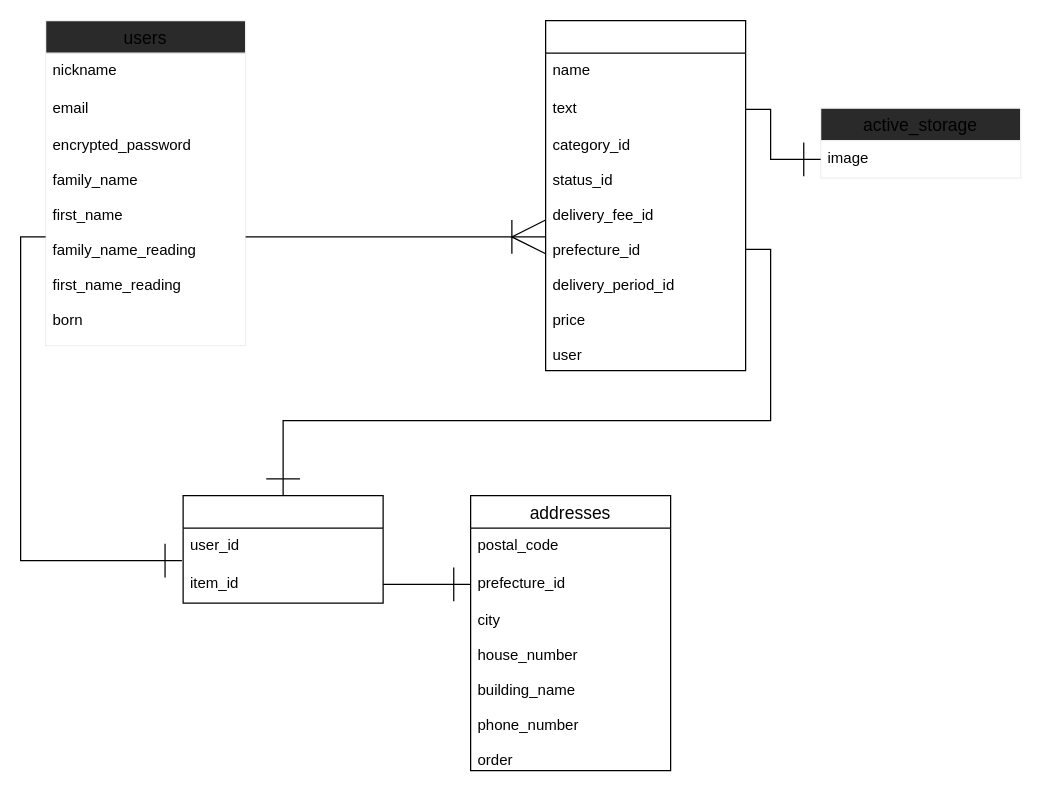
Image size: 1041x791. Some labels were removed from this diagram. Each missing label, with the box of its shape:
items: (544, 19, 746, 371)
orders: (182, 494, 383, 603)
